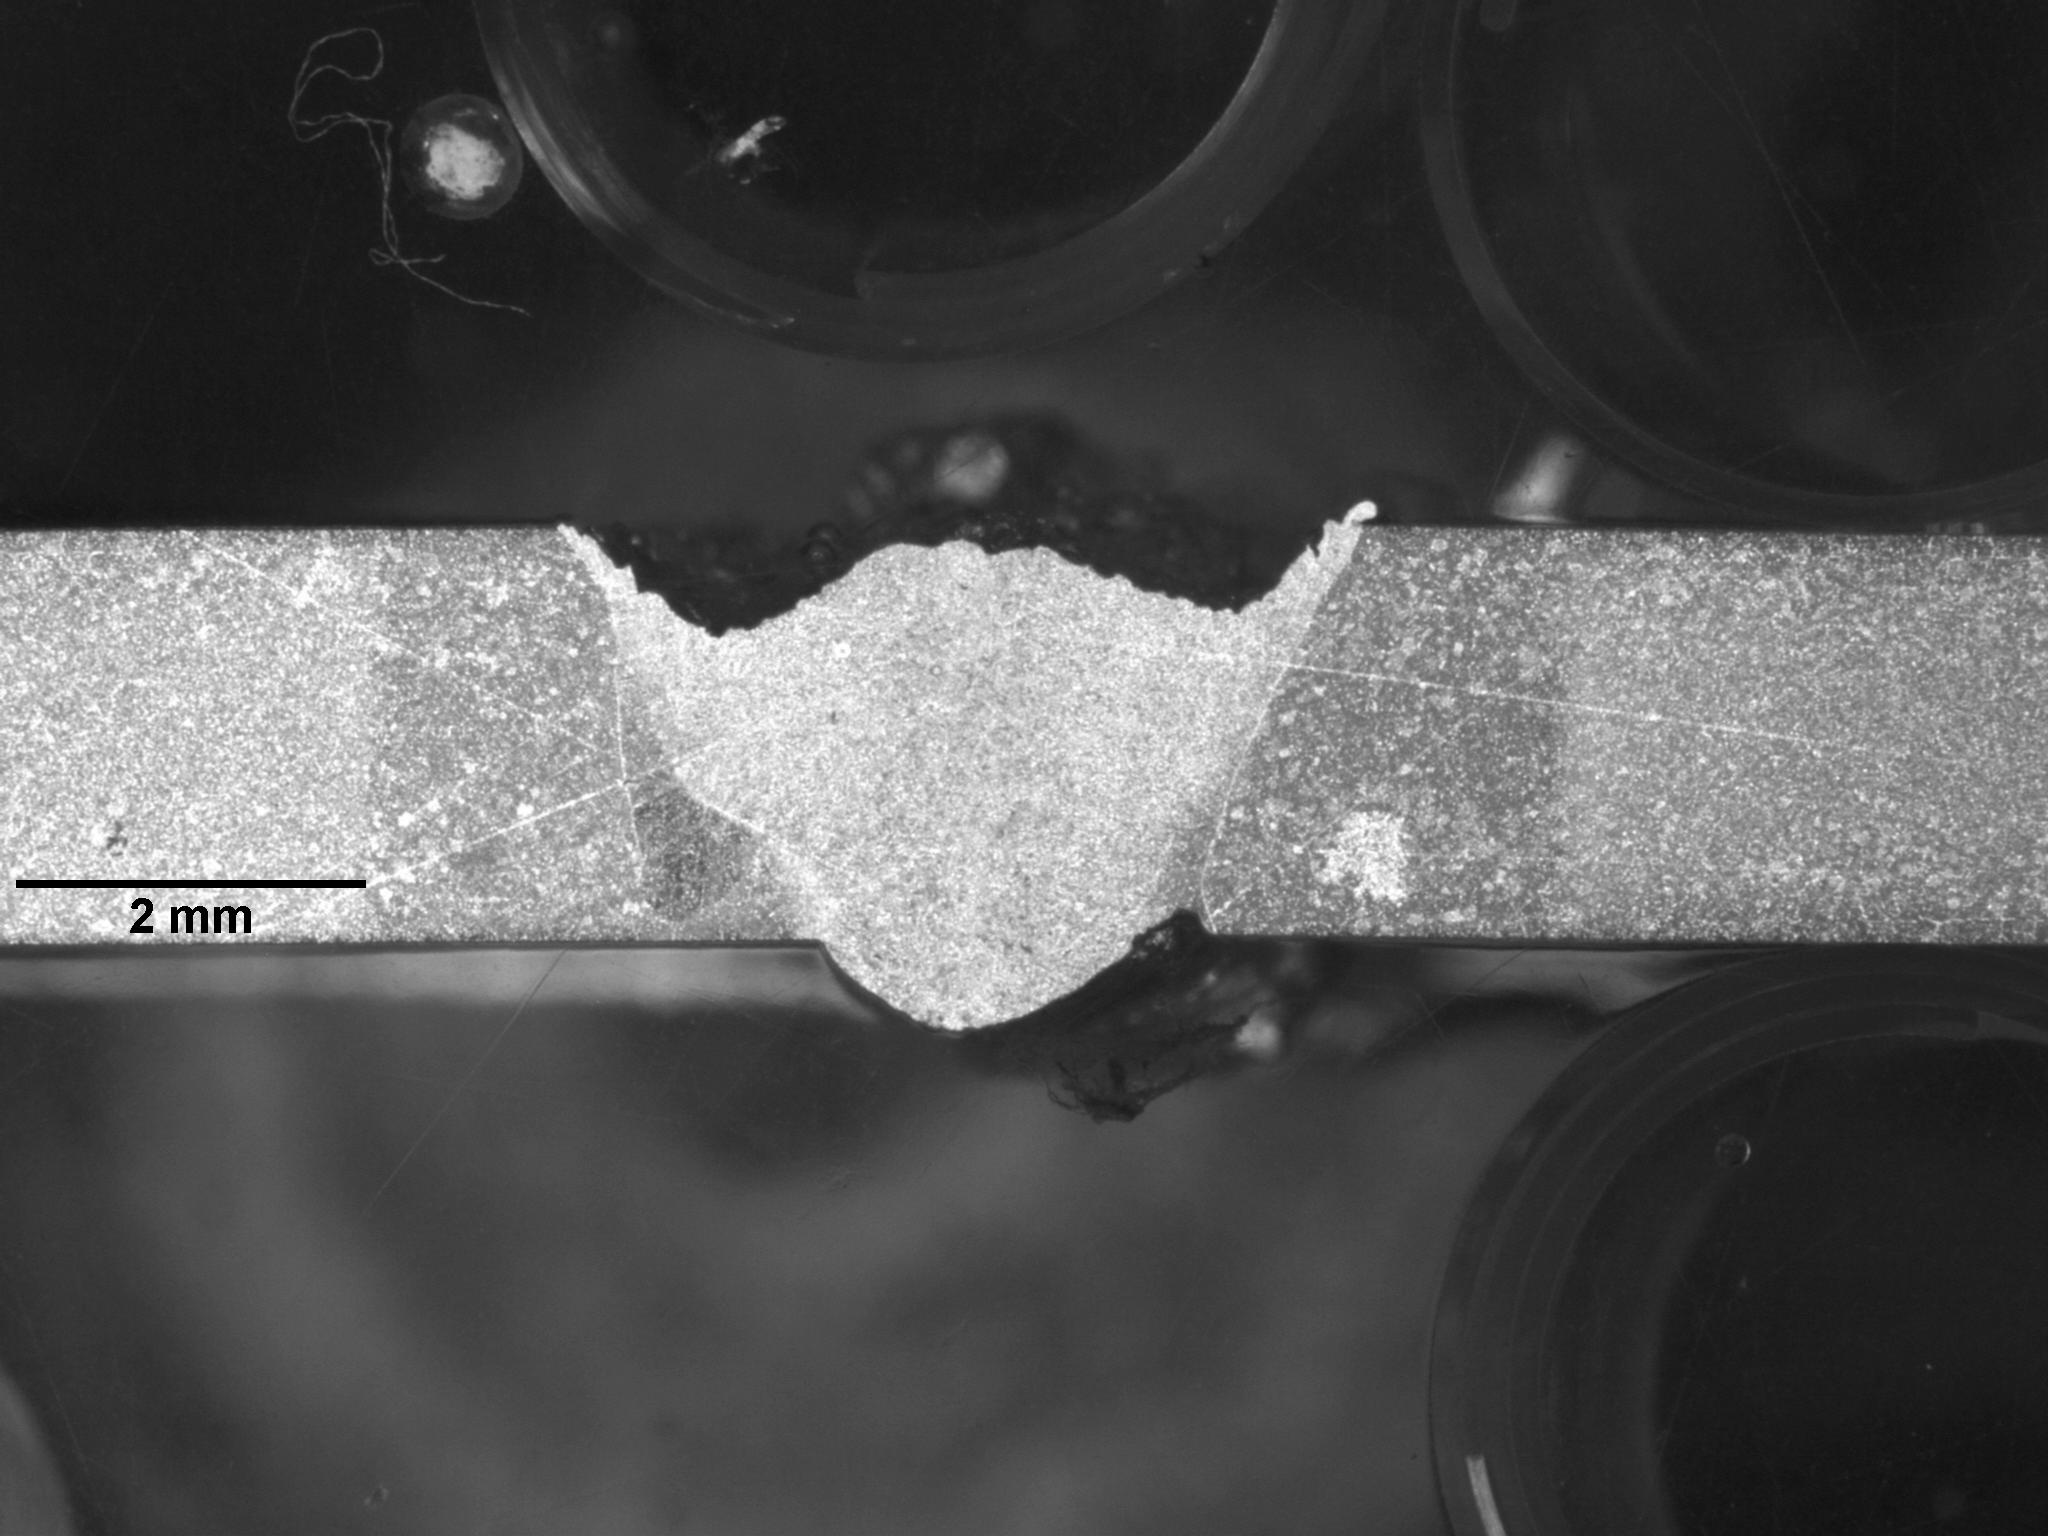Scale-bar: (10, 866, 377, 941)
